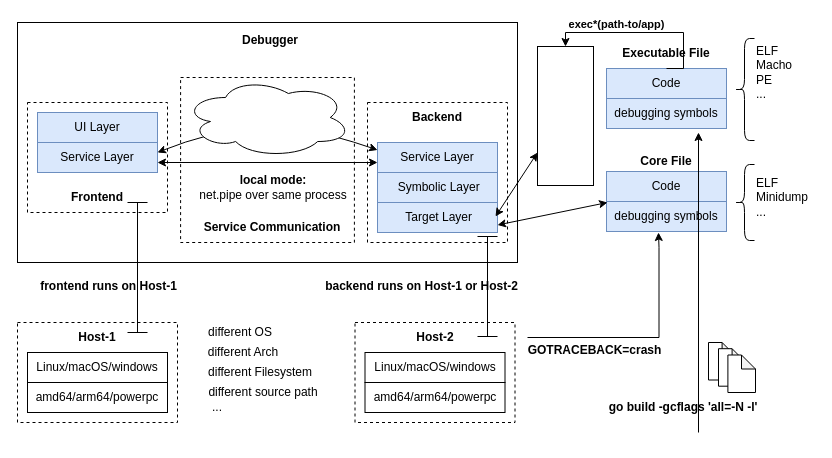
Image size: 832x458. Some labels were removed from this diagram. The centre of each missing label's shape, as x and y in pixels:
headless-mode: json-rpc over network: point 267,117
Process: point 565,116
